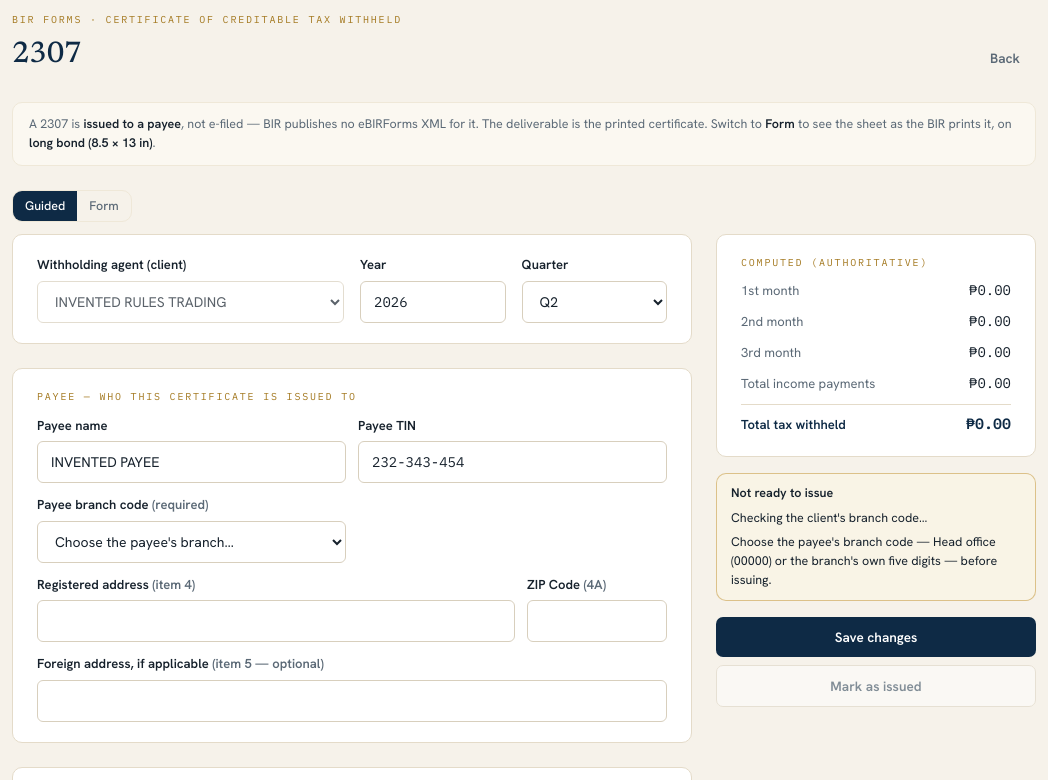
Test case: T5 the 2307 editor's rules (W3 R4, R6) › checks the SAVED certificate: a payee branch chosen on screen but not saved does not issue
expect the text "Choose the payee's branch code" is shown: met, box [731,533,997,588]
expect the button "Mark as issued" is disabled: met, box [716,665,1036,707]
Select "Head office (00000)" in the dropdown labelled "Payee branch code (required)". click: x=192, y=542
box: [37,521,346,563]
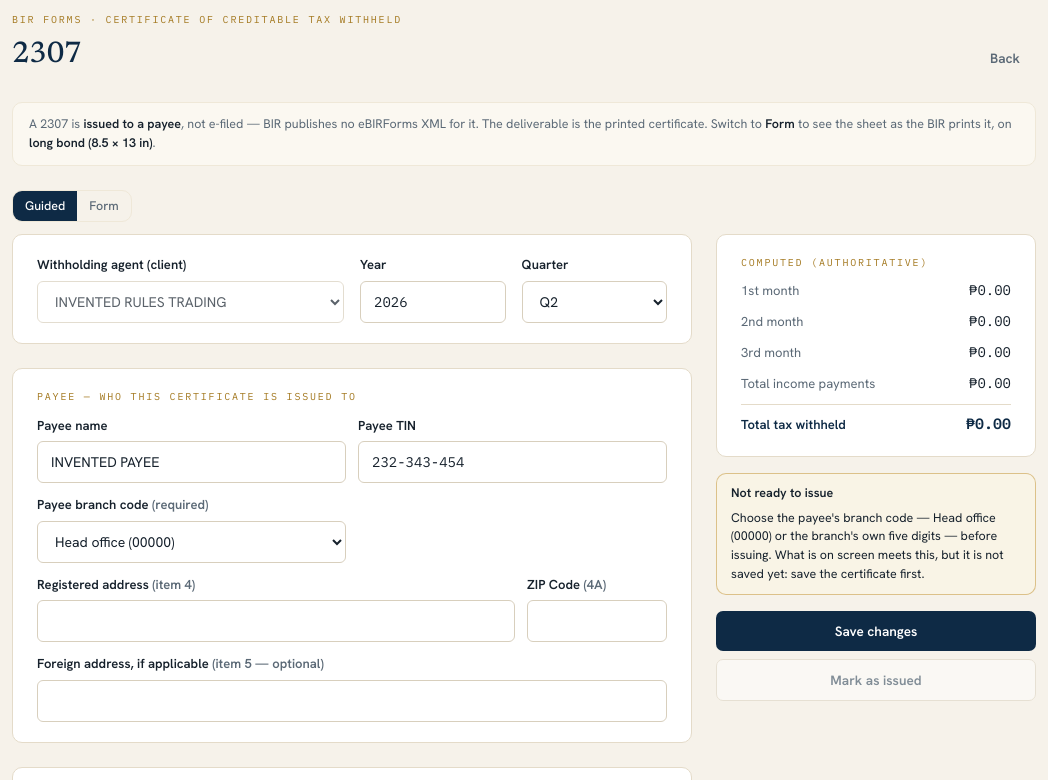
expect the button "Mark as issued" is disabled: met, box [716,659,1036,701]
expect the text "not saved yet: save the certificate first" is shown: met, box [731,508,1004,582]
